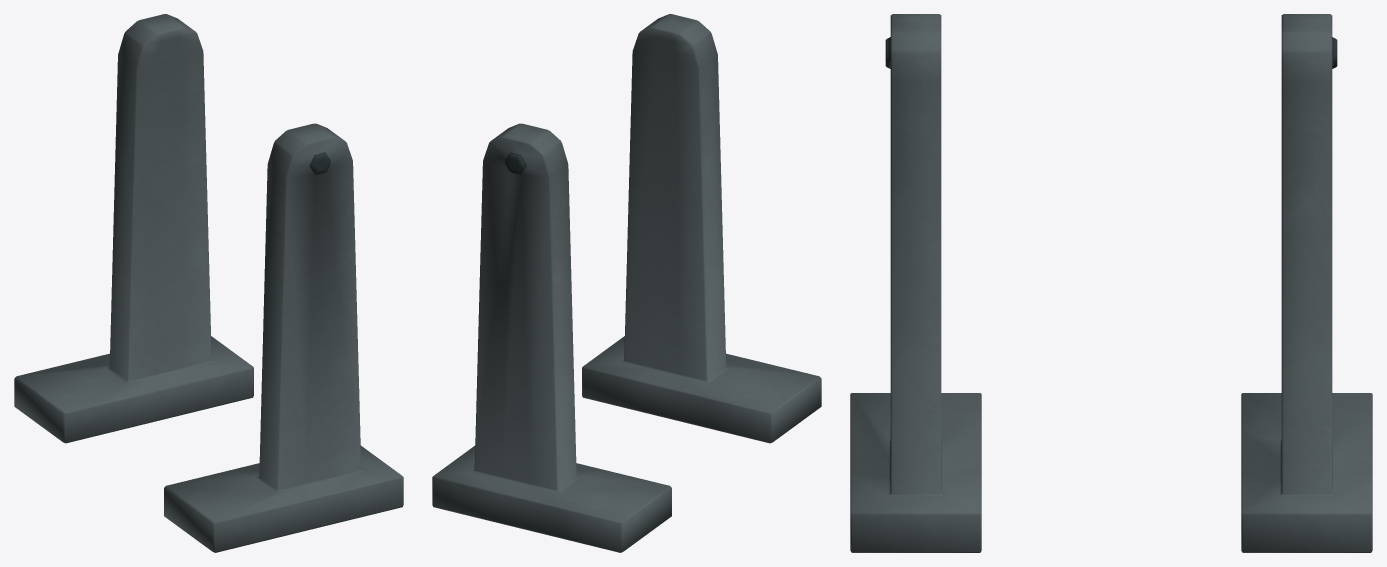
File: lamp_02_stand.gltf
The picture shows the model from 3 angles, left to right: view 1: azimuth 30°, elevation 25°; view 2: azimuth 150°, elevation 25°; view 3: azimuth 270°, elevation 25°; orthographic projection. The views are drawn at different scales.
Visible parts, largest first — view 1: lamp_02_stand; view 2: lamp_02_stand; view 3: lamp_02_stand.
Boxes of the visible parts, x1,y1,x2,y2 form: lamp_02_stand: (14,14,403,552); lamp_02_stand: (432,14,821,552); lamp_02_stand: (850,14,1372,552).
Bounding box in the file's own units: 0.182 × 0.3397 × 0.3301.
1 material, 1 textured.
